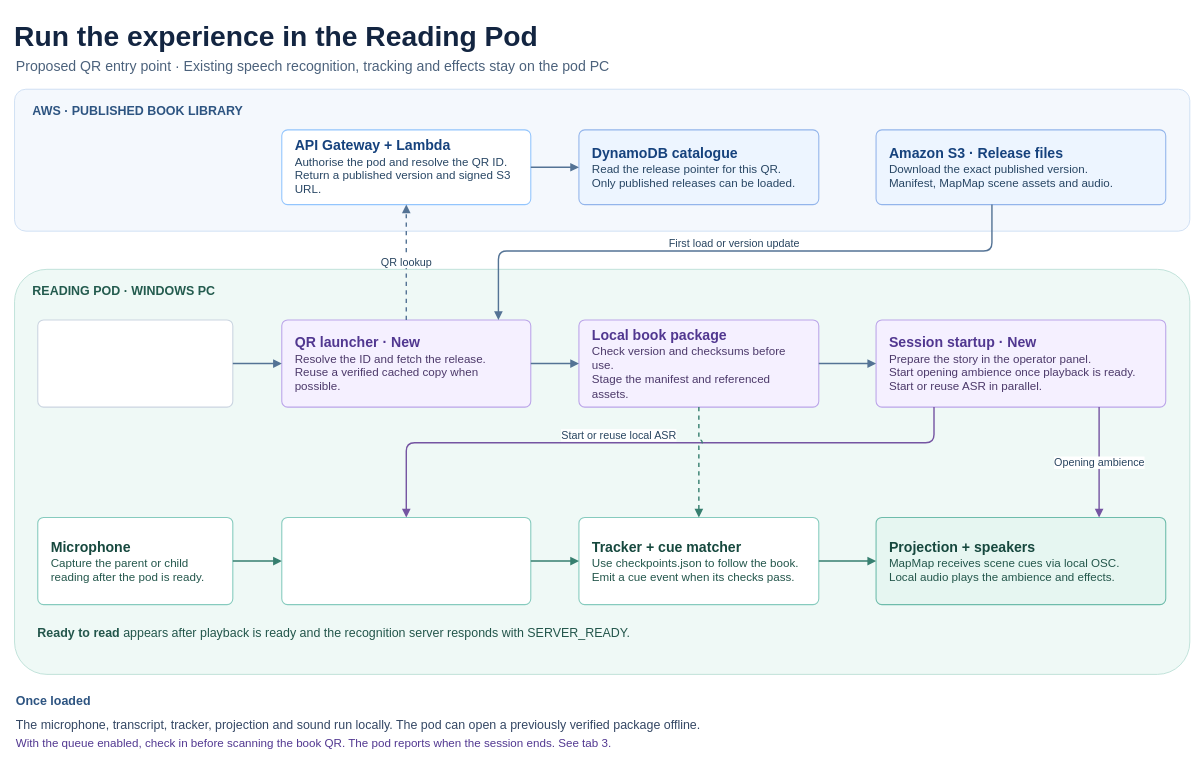
This 1204x765 diagram has some shape labels left out. Here are the shapes that lost their labels. From the top down, the box of each, then its label:
(37, 319, 233, 407): Scan the book’s QR The parent or child scans the label added by the librarian.
(281, 517, 531, 605): Nemotron · 160 ms The local WSL server streams transcript updates to the client.
